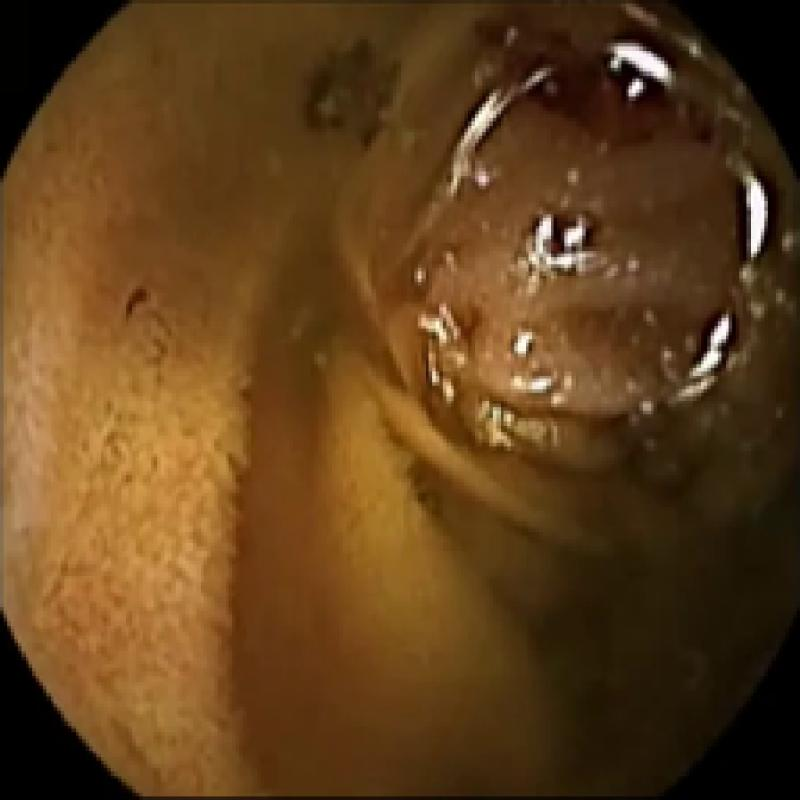bleeding: (486, 21, 725, 143), (691, 167, 767, 399), (302, 34, 392, 147), (526, 206, 602, 266)
